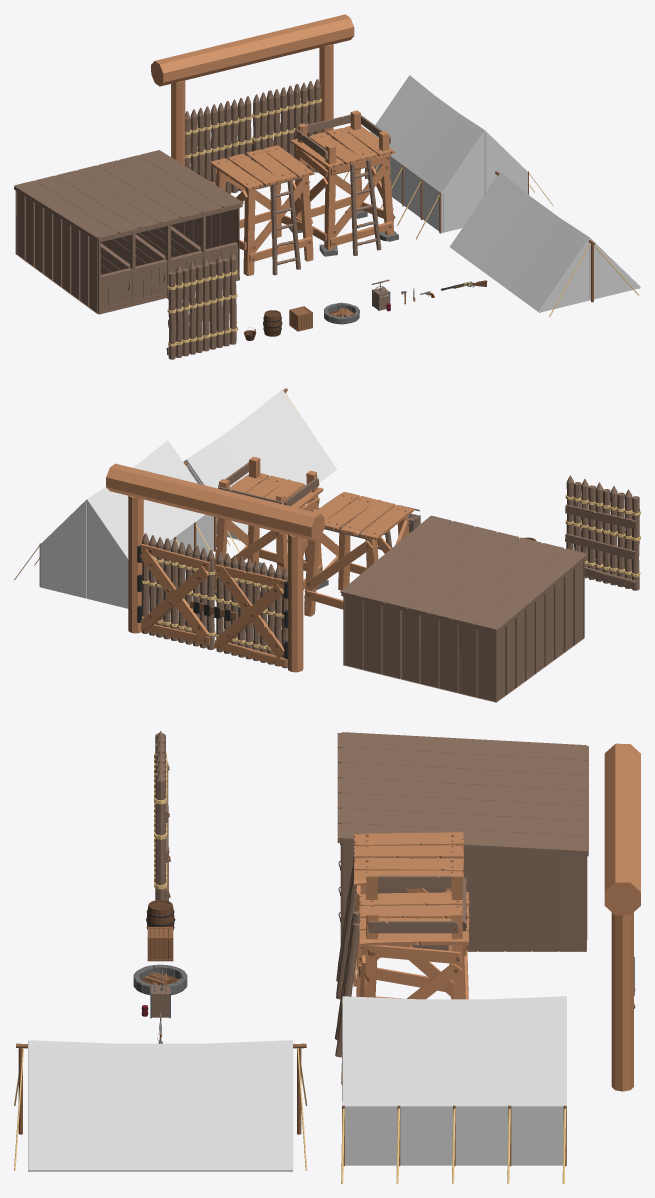
File: buildworkers.glb
3 renders of one model, top to bottom at view 1: azimuth 30°, elevation 25°; view 2: azimuth 150°, elevation 25°; view 3: azimuth 270°, elevation 25°, orthographic. The views are drawn at different scales.
Parts seen in each view (by area): view 1: stables_13, fort-gate_7, tent_14, command-tent_4, gueard-tower-L2_9, guard-tower-L1_8, fort-fence_6, campfire_3, crate_5; view 2: stables_13, fort-gate_7, command-tent_4, tent_14, fort-fence_6, guard-tower-L1_8, gueard-tower-L2_9; view 3: stables_13, command-tent_4, tent_14, gueard-tower-L2_9, fort-gate_7, guard-tower-L1_8, fort-fence_6, campfire_3, crate_5, tnt_15, barrel_1.
Part boxes in pixels (<box>): stables_13: <box>14,150,243,314</box>; fort-gate_7: <box>151,14,354,193</box>; tent_14: <box>449,171,640,317</box>; command-tent_4: <box>344,75,553,239</box>; gueard-tower-L2_9: <box>288,110,398,256</box>; guard-tower-L1_8: <box>210,145,314,275</box>; fort-fence_6: <box>166,252,237,359</box>; campfire_3: <box>324,302,359,324</box>; crate_5: <box>289,306,312,331</box>; stables_13: <box>340,515,587,702</box>; fort-gate_7: <box>106,463,324,672</box>; command-tent_4: <box>14,440,239,608</box>; tent_14: <box>183,388,337,544</box>; fort-fence_6: <box>565,475,640,590</box>; guard-tower-L1_8: <box>304,492,413,616</box>; gueard-tower-L2_9: <box>214,456,328,609</box>; stables_13: <box>337,732,588,951</box>; command-tent_4: <box>341,996,566,1183</box>; tent_14: <box>14,1040,307,1171</box>; gueard-tower-L2_9: <box>335,871,469,1057</box>; fort-gate_7: <box>604,743,640,1091</box>; guard-tower-L1_8: <box>336,832,464,999</box>; fort-fence_6: <box>154,731,170,901</box>; campfire_3: <box>133,964,187,995</box>; crate_5: <box>147,927,173,961</box>; tnt_15: <box>141,970,170,1018</box>; barrel_1: <box>146,900,175,929</box>.
Bounding box in the file's own units: 17.82 × 5.69 × 14.2.
